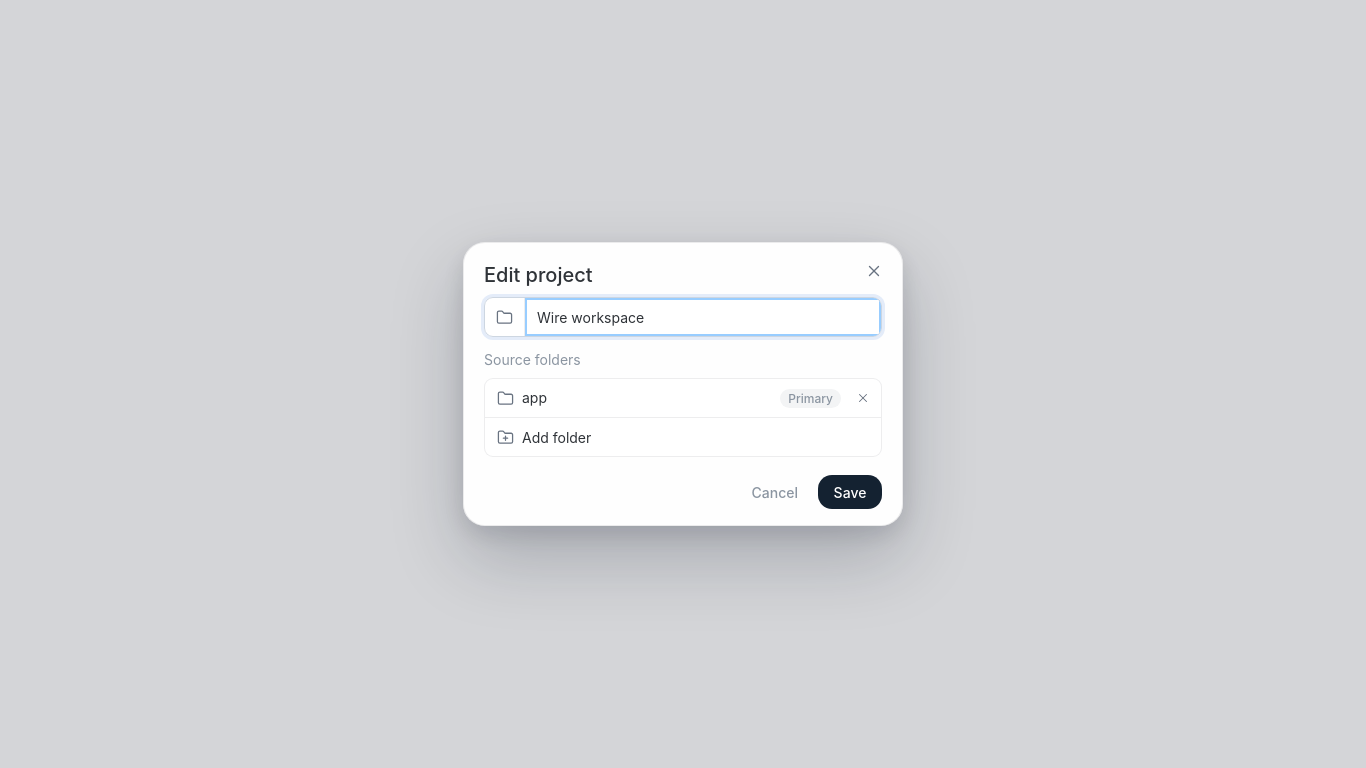
Test: ProjectFormDialog › refuses duplicate folders locally and localizes Main validation codes
Click the button "Add folder": (557, 437) [485,418,881,456]
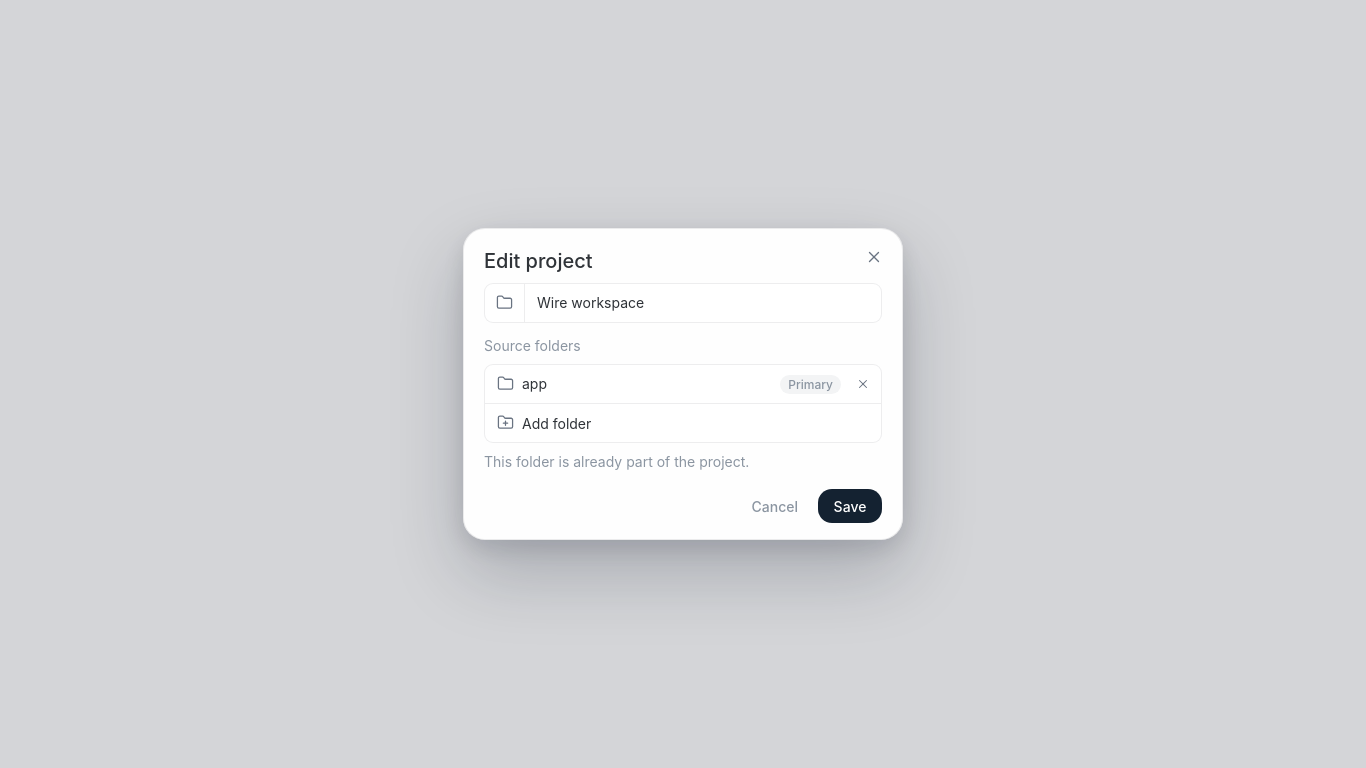
Expected: the message reads "This folder is already part of the project.", [484,453,749,470]
Click the button "Save": (850, 506) [818,489,882,523]
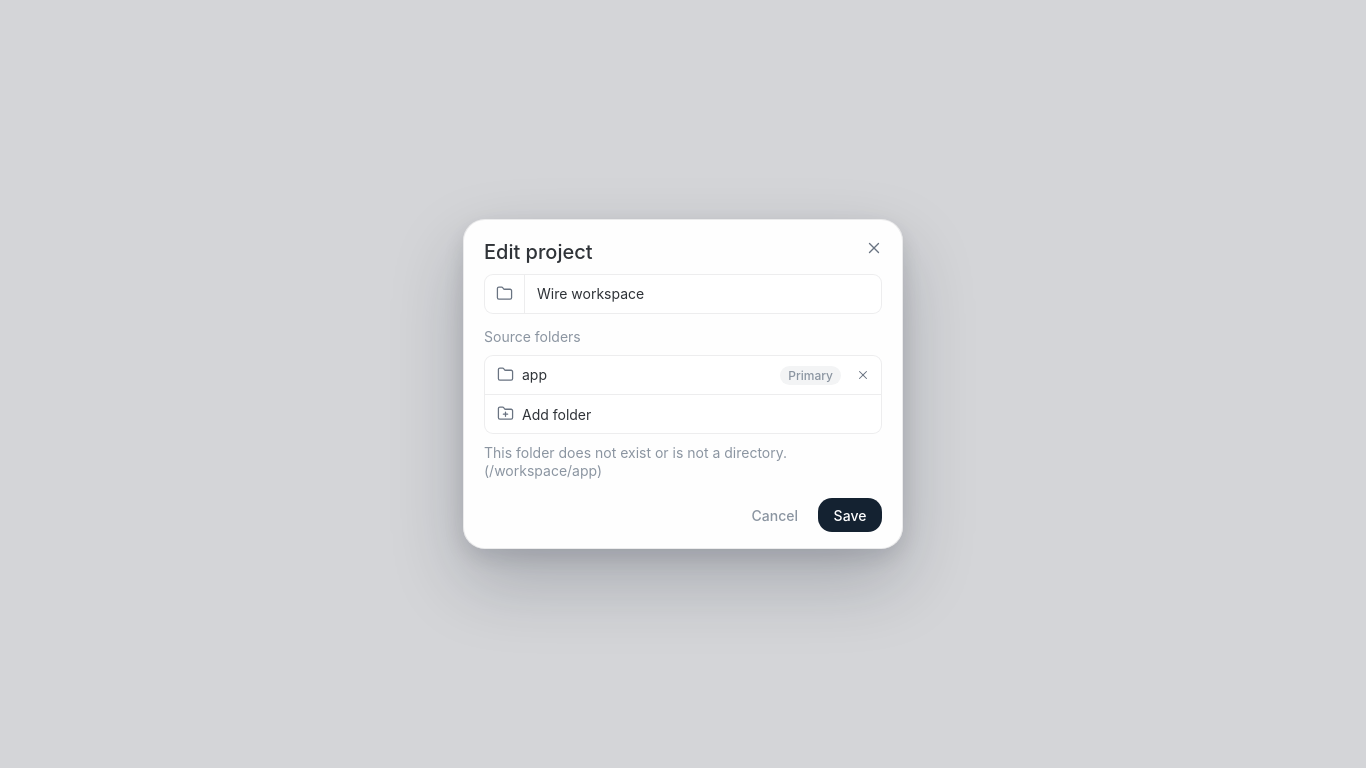
Expected: the dialog is shown, [463,219,903,549]
Expected: the message reads "This folder does not exist or is not a directory. (/workspace/app)", [484,444,787,479]
